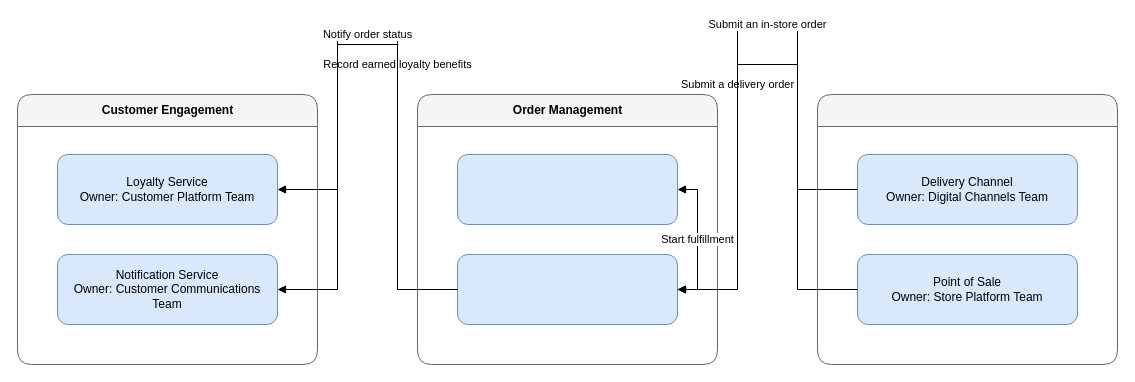
Some shapes in this 1135 by 382 pixel diagram are drawn without their labels. The shapes that lost their labels are listed below. From the top down, each one's box as (x1, y1, x2, y2) in pixels, then its label:
(456, 154, 678, 224): Kitchen Orchestration Owner: Restaurant Operations Team
(816, 94, 1118, 364): Store Sales
(456, 254, 678, 324): Order Service Owner: Order Team
